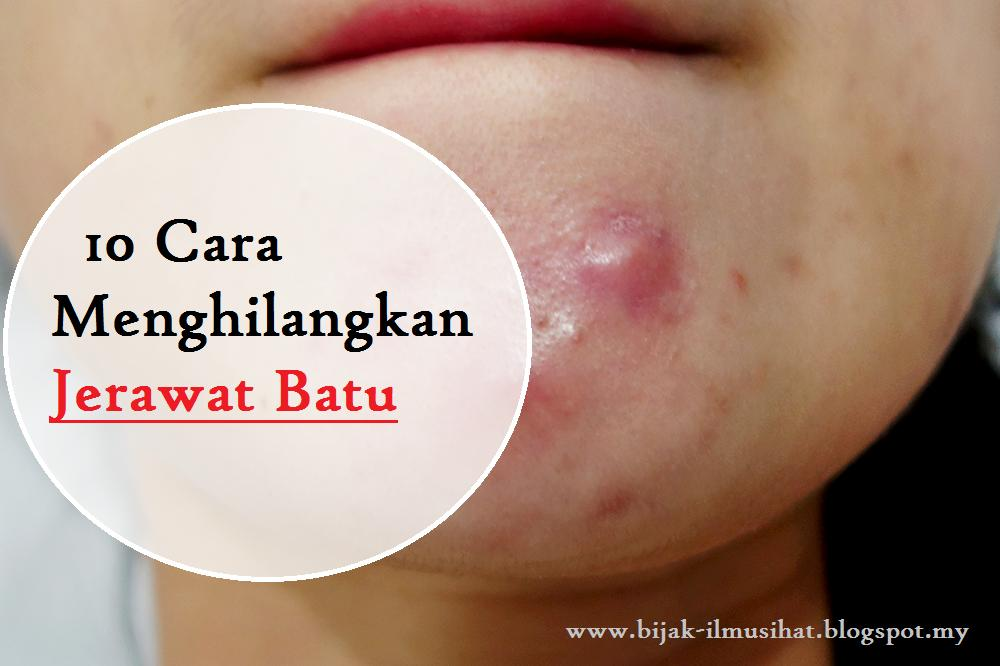Acne: (530, 196, 694, 433), (695, 365, 782, 462), (725, 247, 812, 301), (577, 480, 652, 526), (892, 140, 925, 188)
